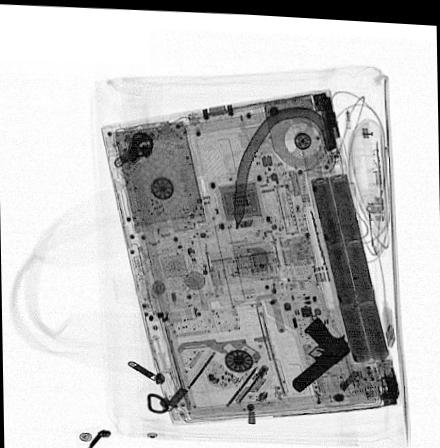Gun: (291, 313, 351, 390)
